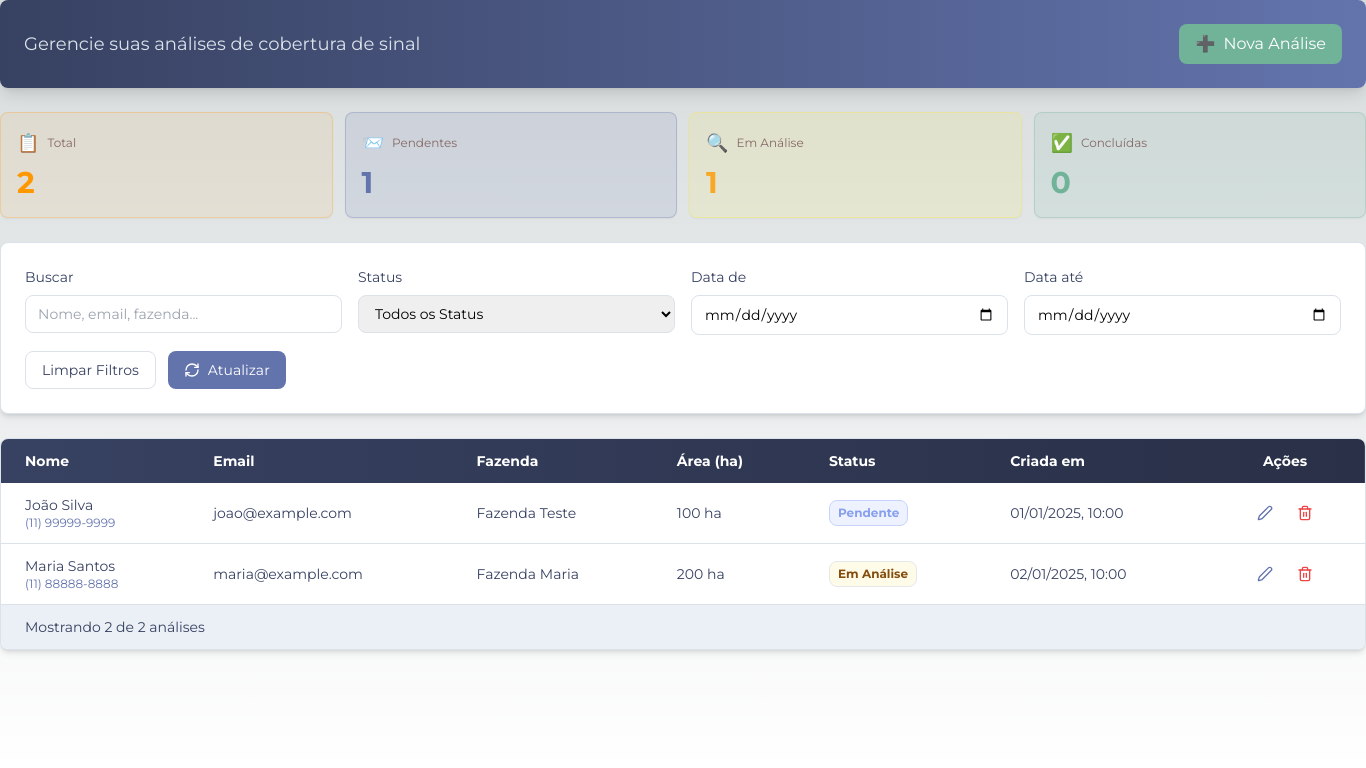
Test: AnalisesManager › deve abrir formulário quando botão Nova Análise é clicado
The image size is (1366, 768).
Note: Clicar no botão Nova Análise (texto está dividido em spans)
Click the button "➕ Nova Análise". click: [1261, 44]
box: [1179,24,1342,64]
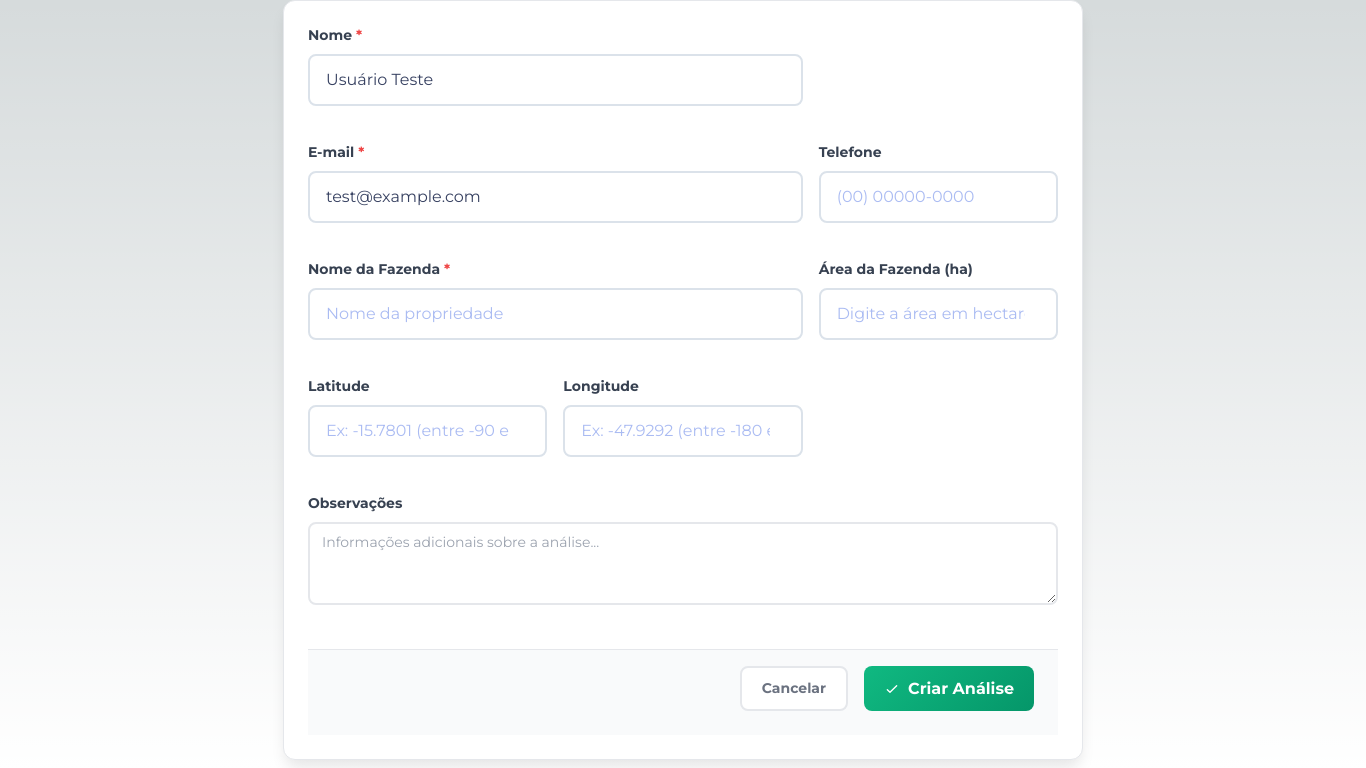
Check: the text "Nome" is shown, box [308,26,356,44]
Check: the text "E-mail" is shown, box [308,143,358,161]
Check: the button "Cancelar" is shown, box [740,666,848,711]
